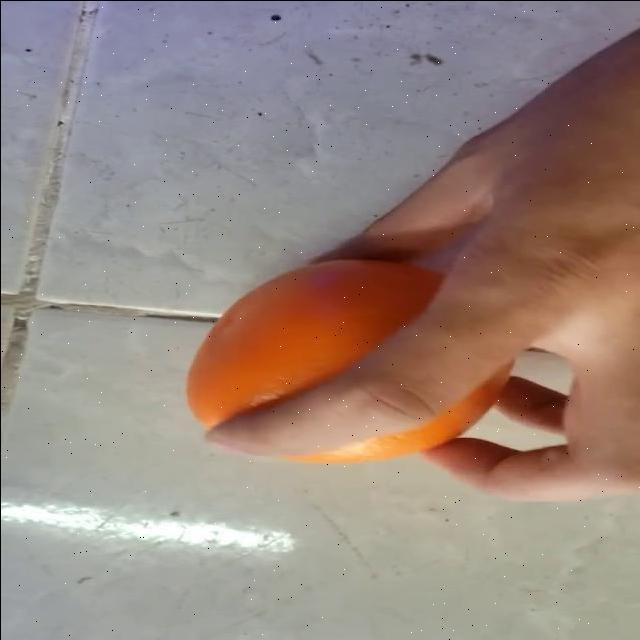Orange: (185, 256, 515, 466)
